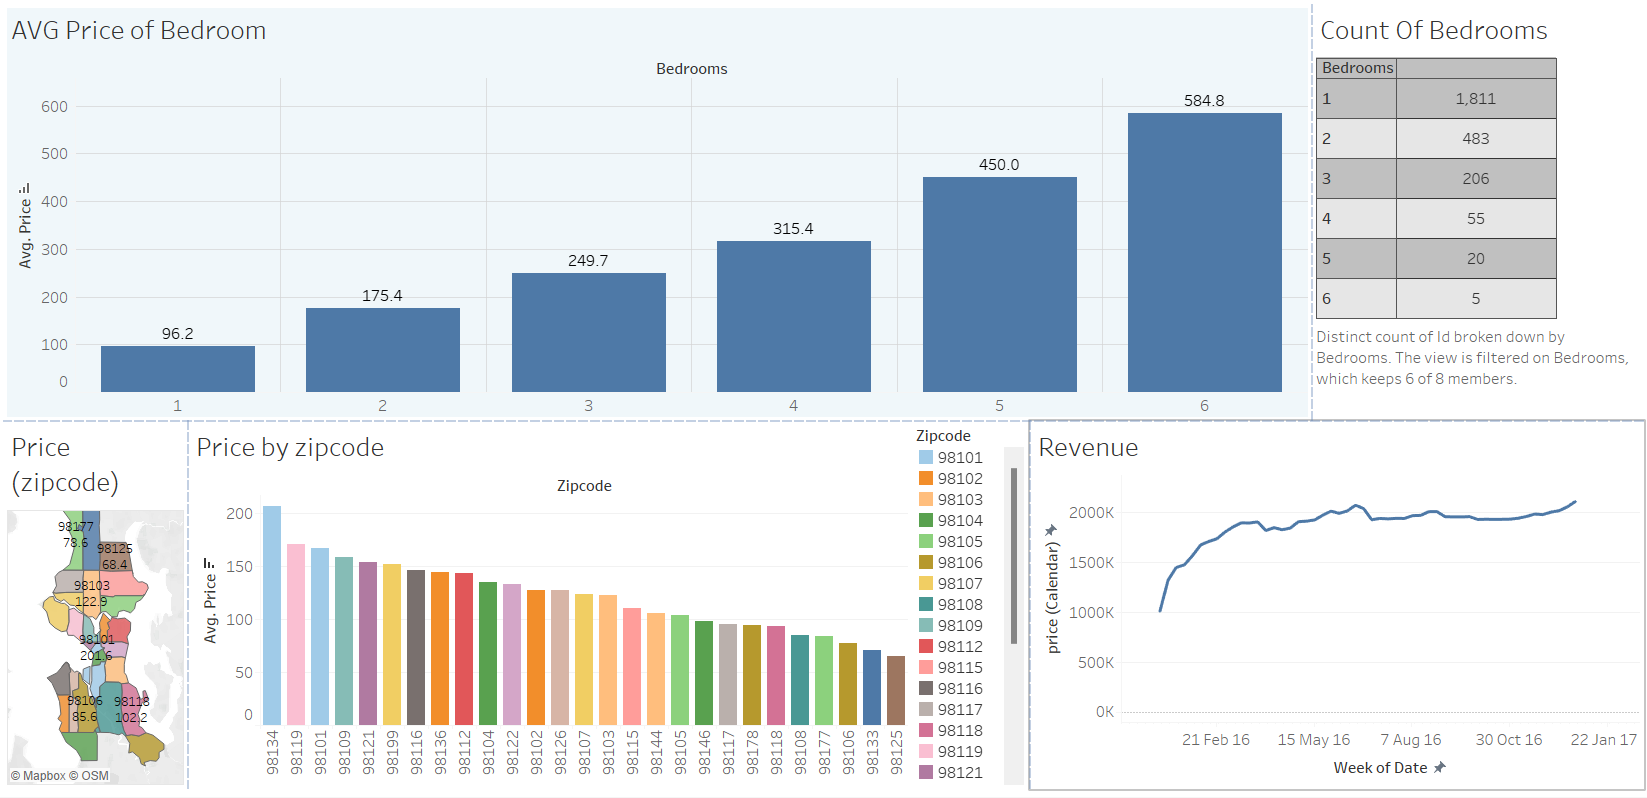

What the dashboard file says about the page in this screenshot:
{"tool":"tableau","page":{"name":"Dashboard 1","canvas":[1000,1000],"units":"permille","ordinal":0},"visuals":[{"type":"worksheet","title":"Sheet 4","mark":"Automatic","rows":["price"],"cols":["bedrooms"],"box":[4.8,10,790,520.6]},{"type":"worksheet","title":"Sheet 5","mark":"Automatic","rows":["bedrooms"],"box":[794.8,10,200.4,520.6]},{"type":"worksheet","title":"Sheet 2","mark":"Multipolygon","box":[4.8,530.6,111.7,459.4]},{"type":"worksheet","title":"Sheet 1","mark":"Automatic","rows":["price"],"cols":["zipcode"],"box":[116.5,530.6,436.9,459.4]},{"type":"legend","title":"Sheet 1","param":"[federated.16p719e1soscql12w46wm1alpt3x].[none:zipcode:ok]","box":[553.4,530.6,71.2,459.4]},{"type":"worksheet","title":"Sheet 3","mark":"Automatic","rows":["price (Calendar)"],"cols":["date"],"box":[624.6,530.6,370.6,459.4]}]}

Visuals, with their boxes on the dashboard's canvas, which has no fixed pixel size, in thousandths of its width and height (x1, y1, x2, y2). These are canvas units, not pixel positions in the 1647x798 screenshot, which may show the page scaled, cropped or inside an application window:
"Sheet 4" worksheet: (left=5, top=10, right=795, bottom=531)
"Sheet 5" worksheet: (left=795, top=10, right=995, bottom=531)
"Sheet 2" worksheet (Multipolygon marks): (left=5, top=531, right=116, bottom=990)
"Sheet 1" worksheet: (left=116, top=531, right=553, bottom=990)
"Sheet 1" legend: (left=553, top=531, right=625, bottom=990)
"Sheet 3" worksheet: (left=625, top=531, right=995, bottom=990)
